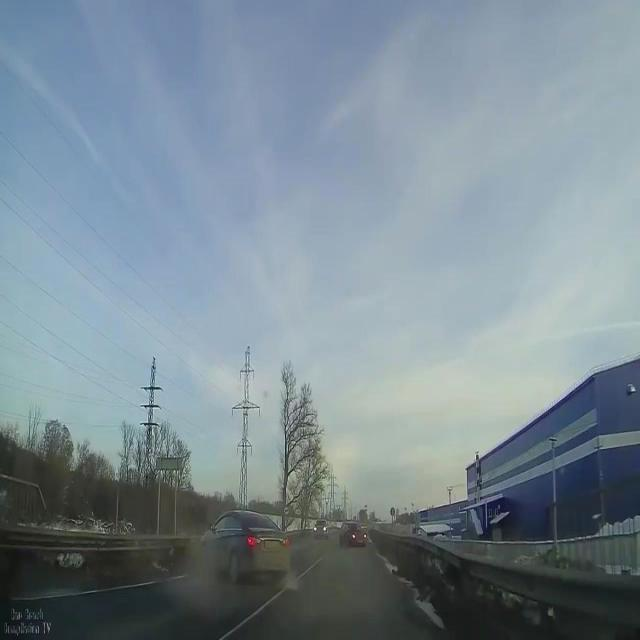moderate: (188, 488, 294, 588)
